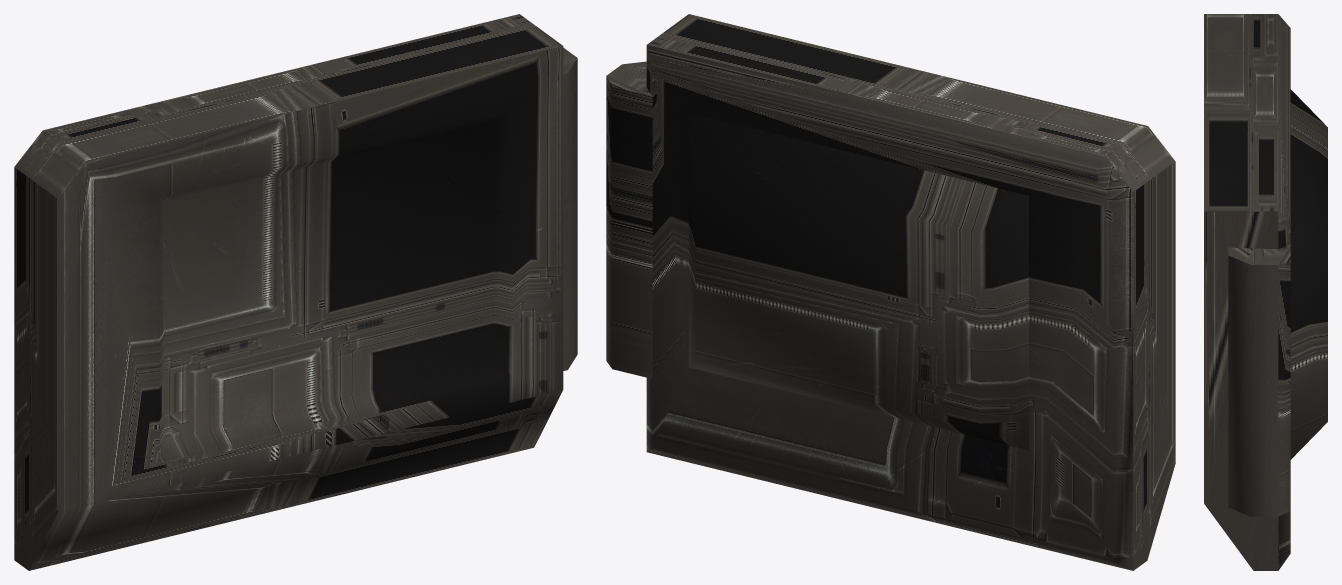
File: computer_panel_small.dae
3 views of the same model, side by side, from view 1: azimuth 30°, elevation 25°; view 2: azimuth 150°, elevation 25°; view 3: azimuth 270°, elevation 25° (orthographic). The views are drawn at different scales.
Parts seen in each view (by area): view 1: computer_panel_small; view 2: computer_panel_small; view 3: computer_panel_small.
Boxes of the visible parts, x1,y1,x2,y2 form: computer_panel_small: (14,14,577,570); computer_panel_small: (606,14,1175,570); computer_panel_small: (1204,14,1327,570).
Bounding box in the file's own units: 0.5786 × 0.4275 × 0.1336.
